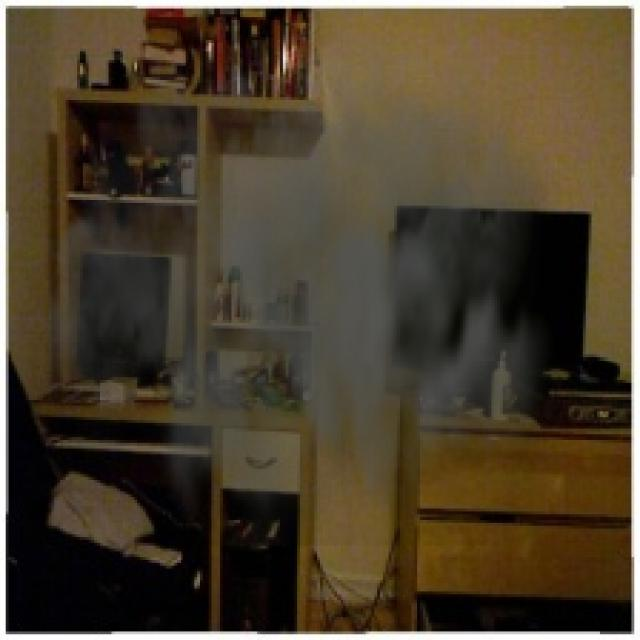smoke: (48, 3, 586, 546)
